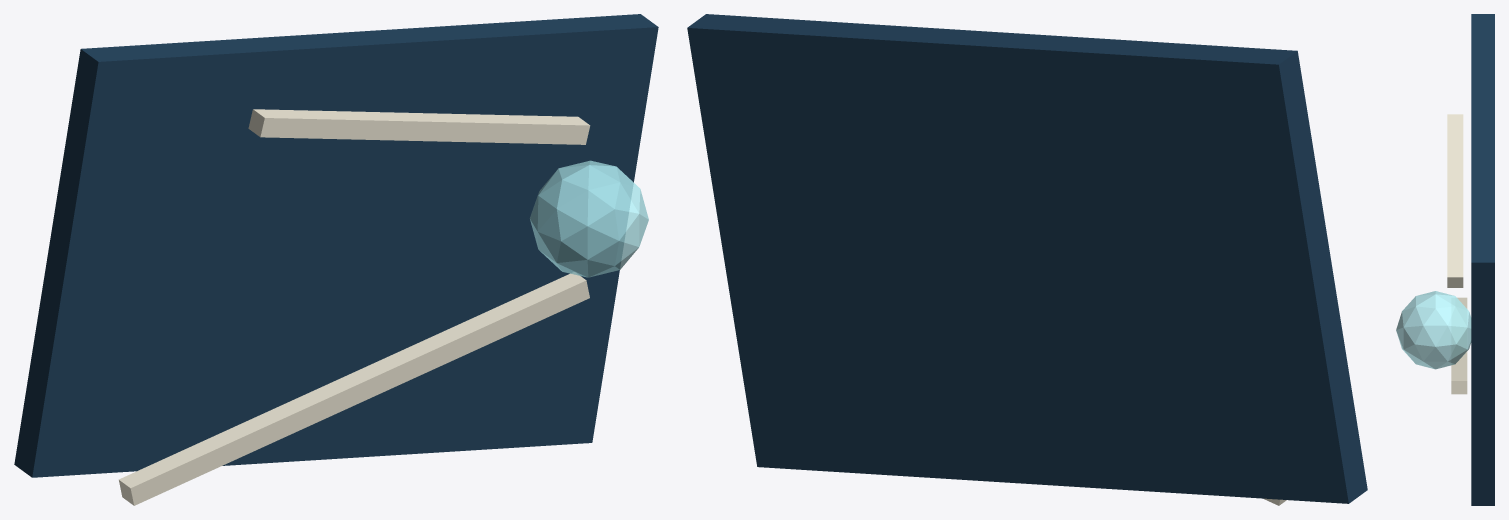
File: 02_world_prop_polish.glb
3 views of the same model, side by side, from view 1: azimuth 30°, elevation 25°; view 2: azimuth 150°, elevation 25°; view 3: azimuth 270°, elevation 25° (orthographic). The views are drawn at different scales.
Visible parts, largest first — view 1: object_overlay_plate, edge_wear_a, glow_socket, edge_wear_b; view 2: object_overlay_plate; view 3: object_overlay_plate, glow_socket, edge_wear_b, edge_wear_a.
Boxes of the visible parts, x1,y1,x2,y2 form: object_overlay_plate: [14, 14, 658, 477]; edge_wear_a: [119, 272, 589, 505]; glow_socket: [529, 160, 648, 277]; edge_wear_b: [248, 109, 590, 144]; object_overlay_plate: [687, 14, 1367, 503]; object_overlay_plate: [1471, 14, 1494, 505]; glow_socket: [1396, 291, 1471, 369]; edge_wear_b: [1447, 114, 1463, 287]; edge_wear_a: [1451, 297, 1467, 394].
Bounding box in the file's own units: 1.21 × 0.9271 × 0.25.
